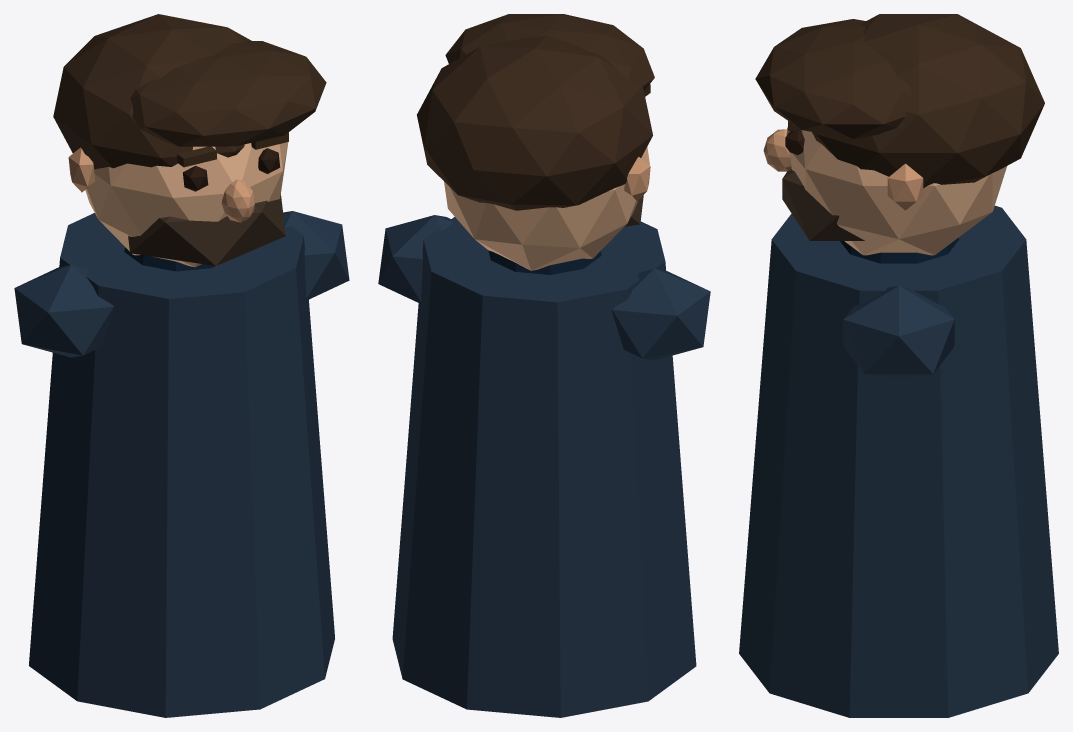
File: insan_e1s_govde.glb
3 views of the same model, side by side, from view 1: azimuth 30°, elevation 25°; view 2: azimuth 150°, elevation 25°; view 3: azimuth 270°, elevation 25° (orthographic). The views are drawn at different scales.
Parts seen in each view (by area): view 1: Cone; view 2: Cone; view 3: Cone.
Part boxes in pixels (box(x1,y1,x2,y2)): Cone: box(14, 14, 349, 717); Cone: box(378, 14, 710, 717); Cone: box(739, 14, 1058, 717).
Size of the model in its own units: 0.1158 by 0.2126 by 0.098.
